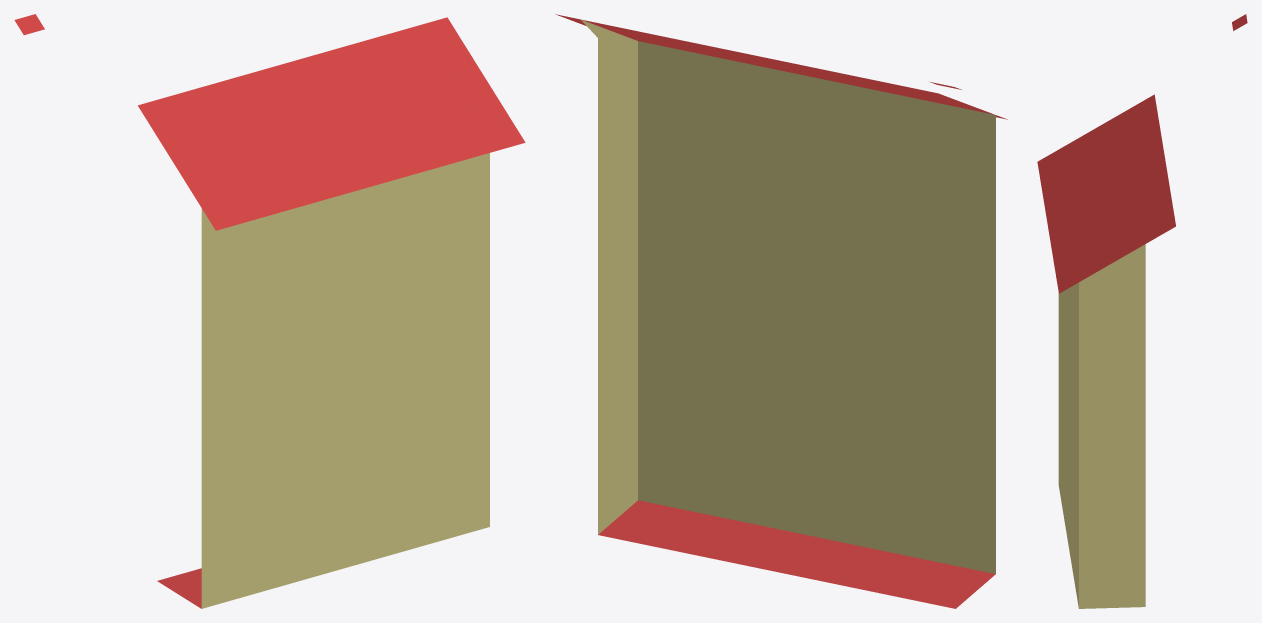
3 renders of one model, left to right at view 1: azimuth 30°, elevation 25°; view 2: azimuth 150°, elevation 25°; view 3: azimuth 270°, elevation 25°, orthographic. The views are drawn at different scales.
Size of the model in its own units: 9.02 by 4.9 by 11.33.
